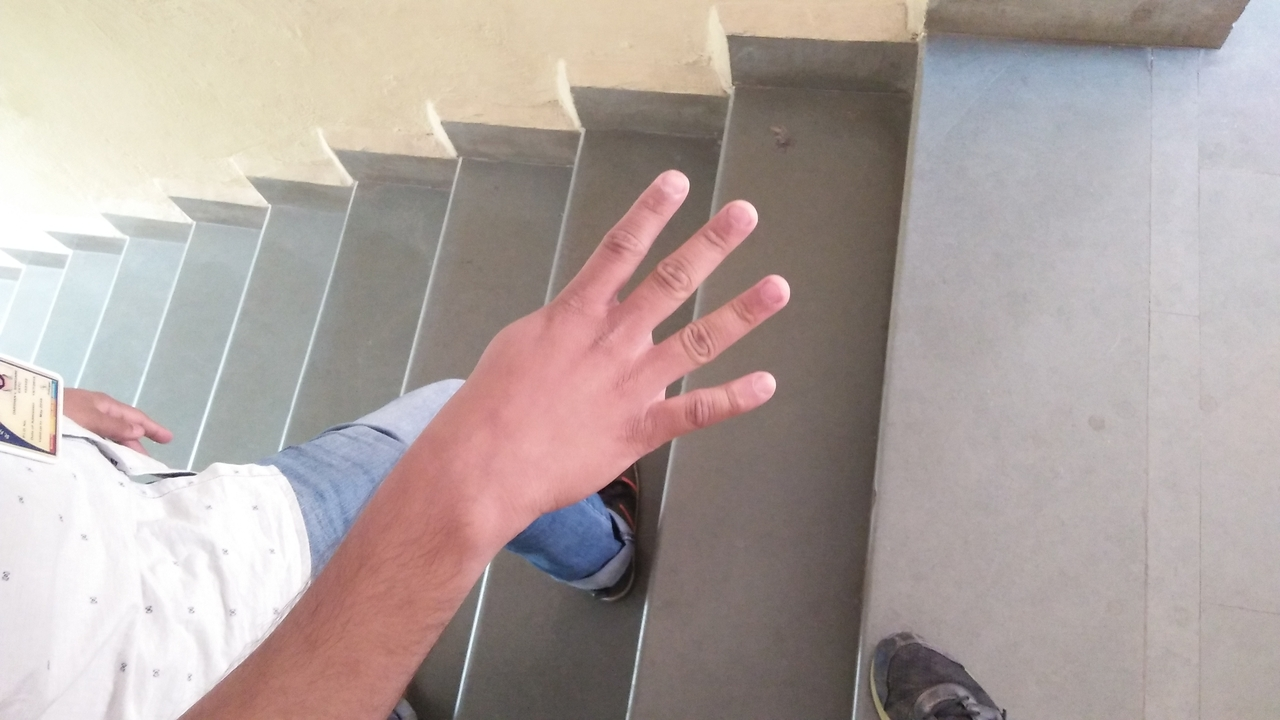fingertip: (726, 260, 798, 320), (628, 156, 698, 216), (698, 188, 766, 242), (741, 369, 791, 410)
